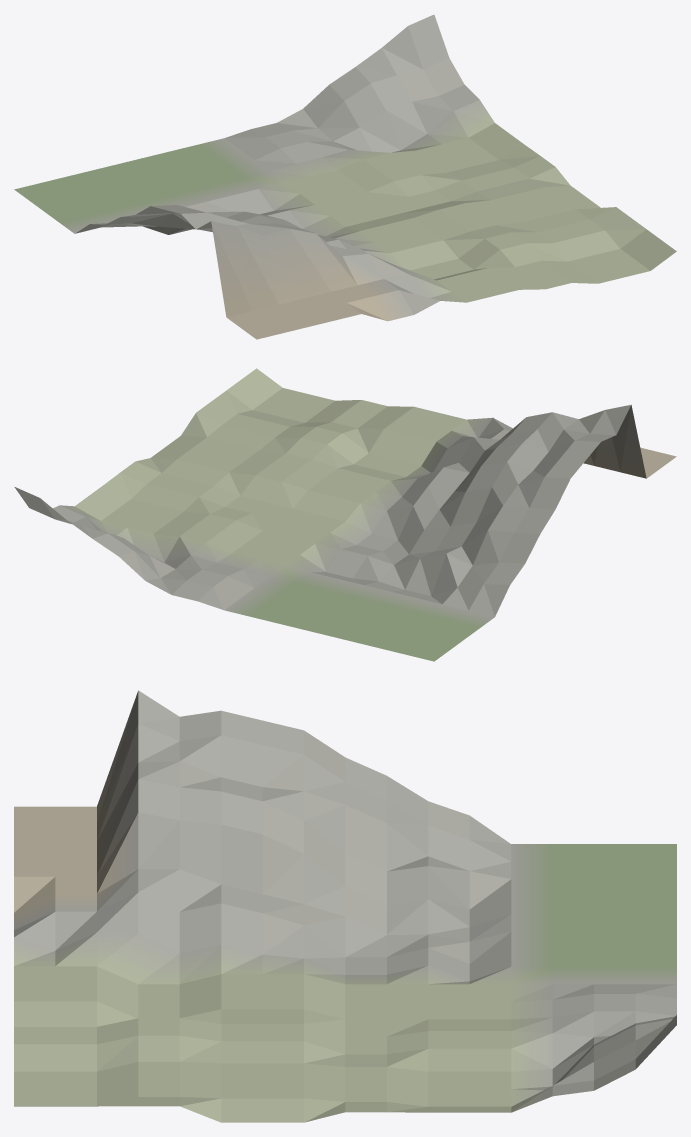
The picture shows the model from 3 angles, top to bottom: view 1: azimuth 30°, elevation 25°; view 2: azimuth 150°, elevation 25°; view 3: azimuth 270°, elevation 25°; orthographic projection. The views are drawn at different scales.
Bounding box in the file's own units: 32 × 8.98 × 32.
